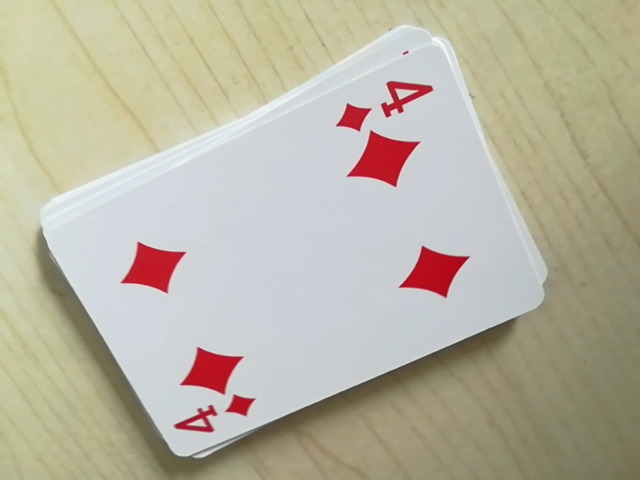fk 4: (336, 63, 436, 137), (166, 392, 261, 448)
